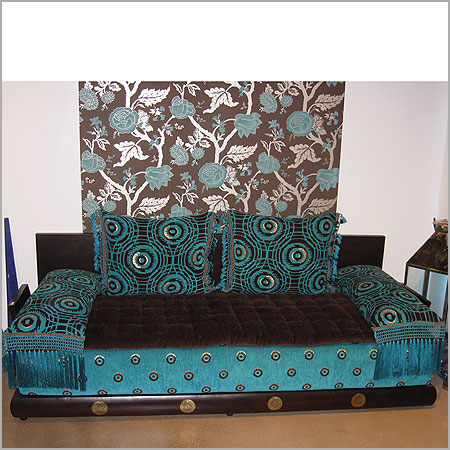chairs: (7, 212, 445, 420)
